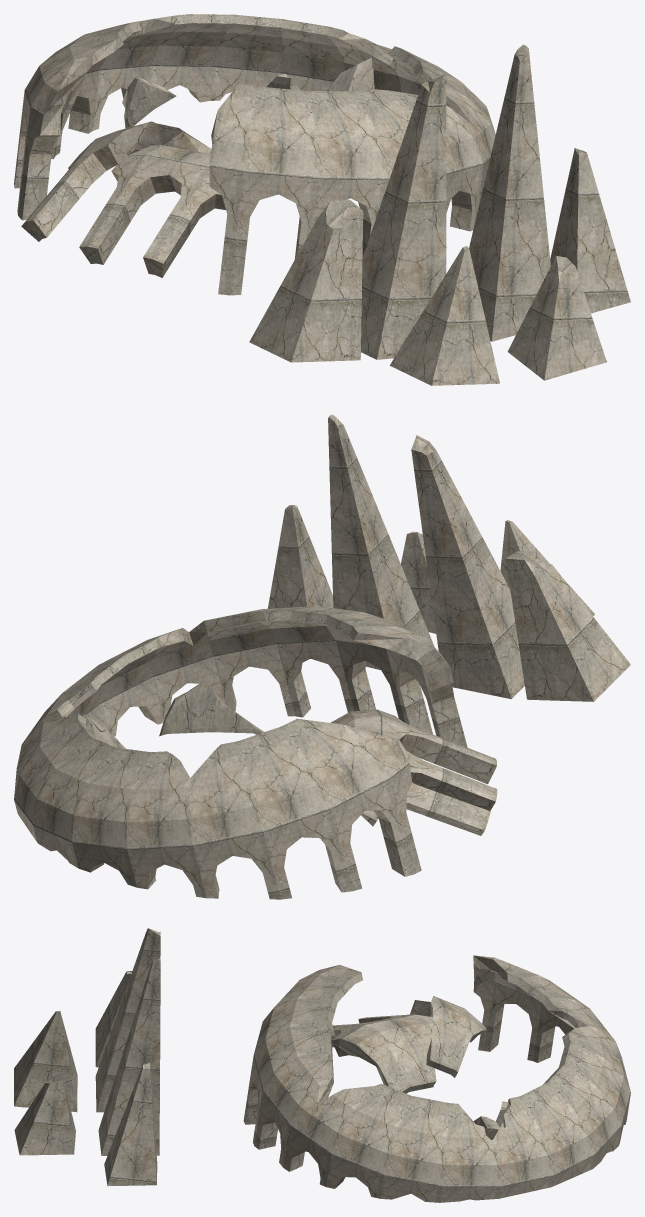
The model's file is poi_temple_ancient_ruined_l1.fbx.
3 views of the same model, one above another, from view 1: azimuth 30°, elevation 25°; view 2: azimuth 150°, elevation 25°; view 3: azimuth 270°, elevation 25° (orthographic). The views are drawn at different scales.
Visible parts, largest first — view 1: mesh_node; view 2: mesh_node; view 3: mesh_node.
Boxes of the visible parts, box(x1,y1,x2,y2) form: mesh_node: box(14, 14, 630, 385); mesh_node: box(14, 414, 630, 899); mesh_node: box(14, 928, 630, 1202).
Bounding box in the file's own units: 54.49 × 28.83 × 81.14.
